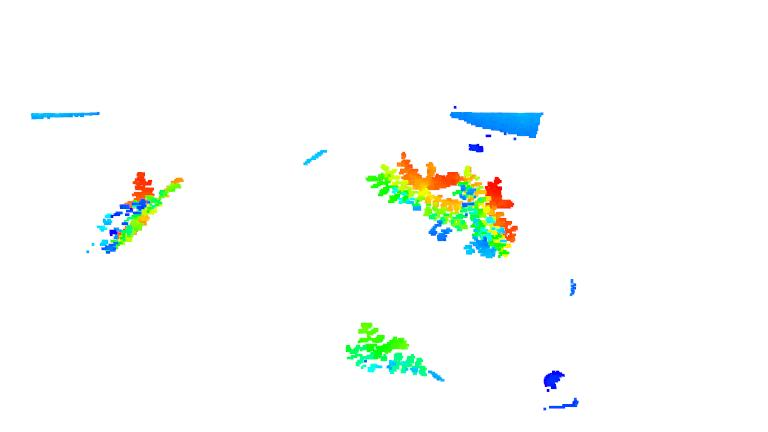chickpea: (92, 165, 184, 259), (435, 167, 519, 262), (363, 152, 457, 221), (339, 320, 429, 378)
